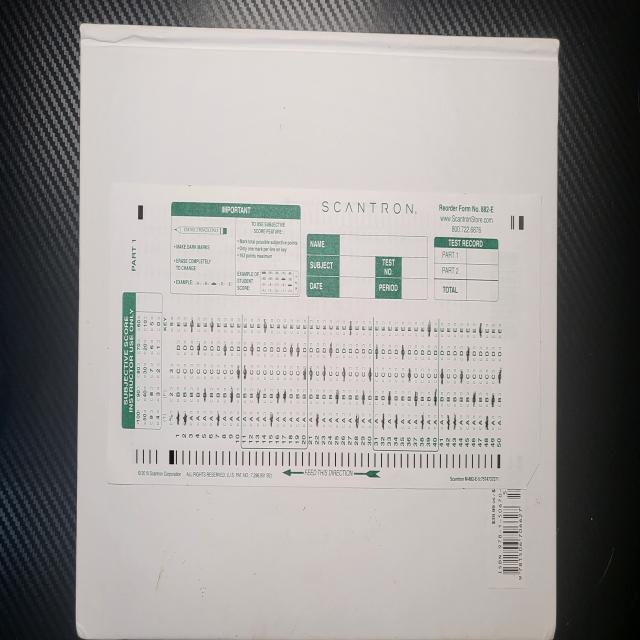scantron: (106, 182, 542, 489)
